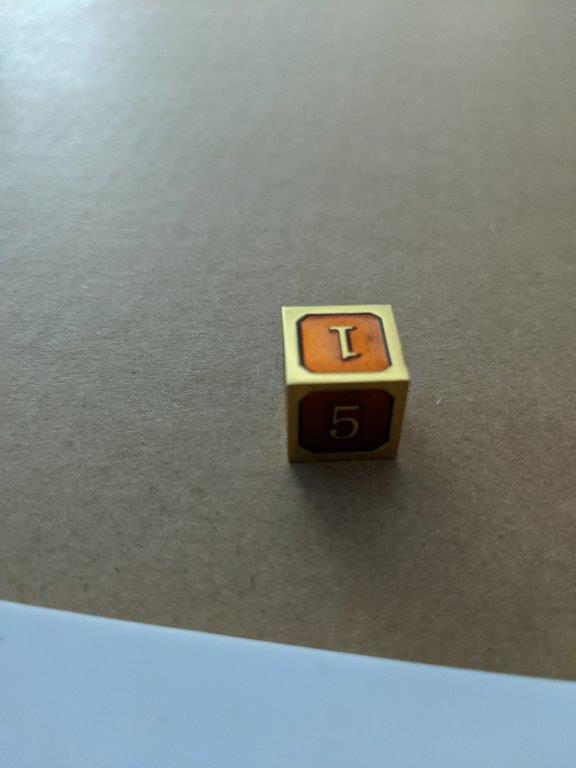d6-1: (277, 304, 411, 465)
